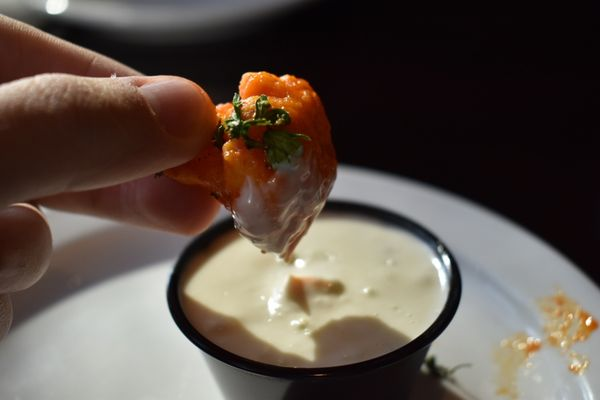sushi: (165, 199, 464, 394)
